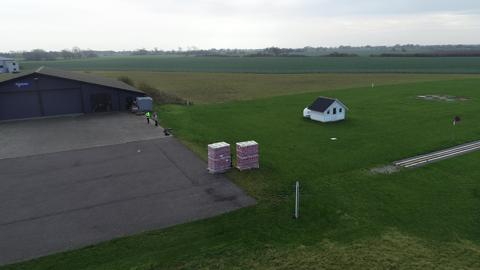RockwoolPallet: (237, 139, 259, 170)
